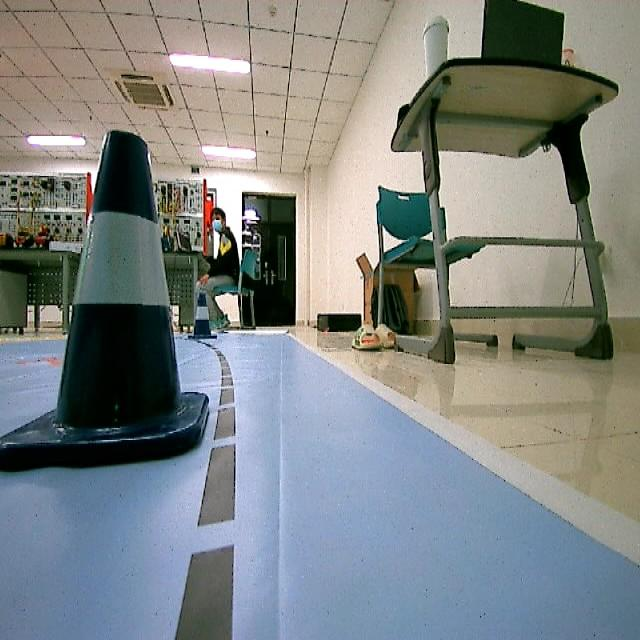obstacle: (0, 126, 196, 465)
